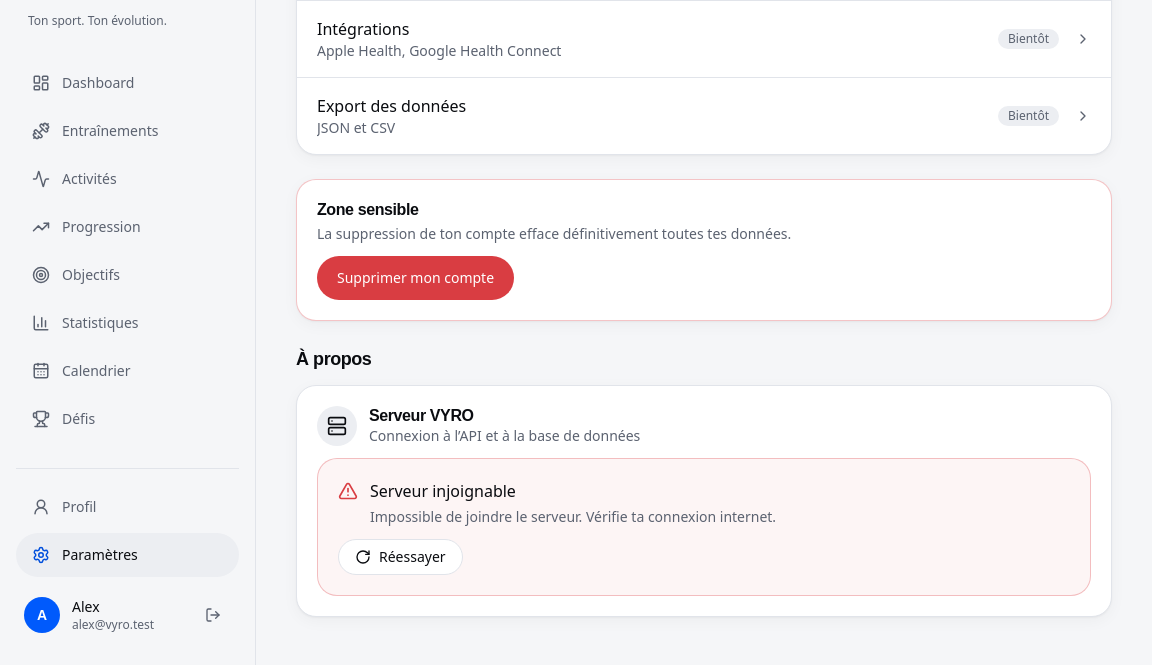
it: ApiStatusCard › shows a friendly error and lets the user retry
(page scrolled)
Expected: the text "Serveur injoignable" is shown, [370,480,516,502]
Expected: the text "Vérifie ta connexion internet" is shown, [370,507,776,526]
Click the button "Réessayer" at point(400, 557), box [338,539,463,575]
(page scrolled)
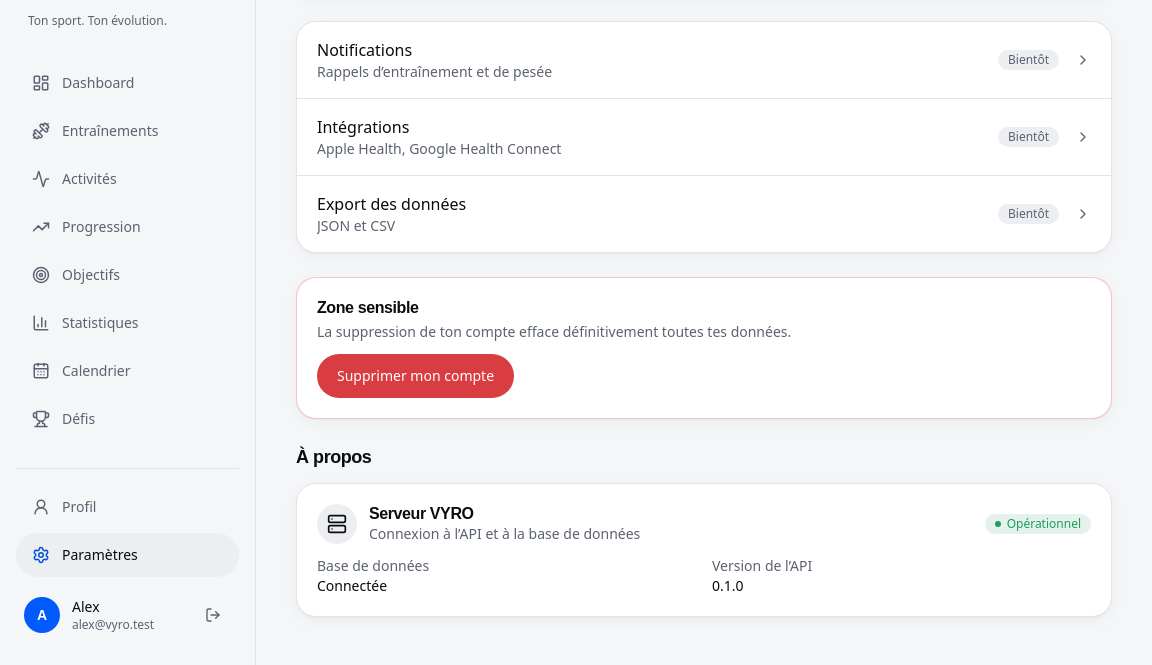
Expected: the text "Opérationnel" is shown, [985,514,1091,534]
